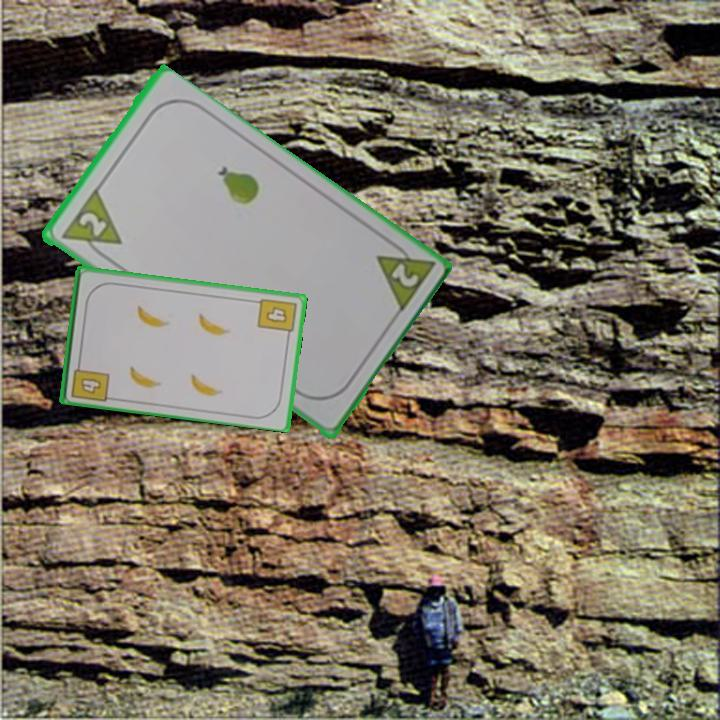2p: (371, 234, 437, 317), (56, 187, 124, 264)
4b: (67, 356, 112, 404), (254, 295, 299, 341)
